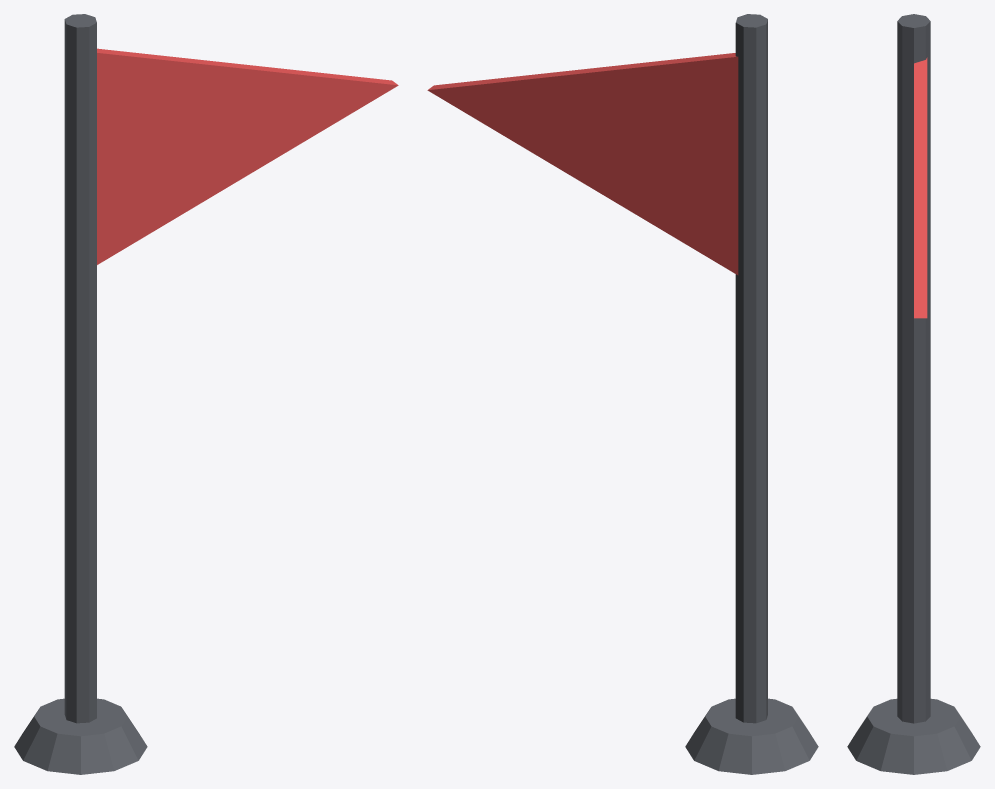
The model's file is FaultFlag.fbx.
3 renders of one model, left to right at view 1: azimuth 30°, elevation 25°; view 2: azimuth 150°, elevation 25°; view 3: azimuth 270°, elevation 25°, orthographic.
Parts seen in each view (by area): view 1: FaultFlag_Flag, FaultFlag_Pole, FaultFlag_Base; view 2: FaultFlag_Flag, FaultFlag_Pole, FaultFlag_Base; view 3: FaultFlag_Pole, FaultFlag_Base, FaultFlag_Flag.
Part boxes in pixels (<box>): FaultFlag_Flag: <box>97,48,398,264</box>; FaultFlag_Pole: <box>64,14,96,723</box>; FaultFlag_Base: <box>14,698,147,774</box>; FaultFlag_Flag: <box>427,53,738,275</box>; FaultFlag_Pole: <box>735,14,767,723</box>; FaultFlag_Base: <box>685,698,818,774</box>; FaultFlag_Pole: <box>897,14,930,723</box>; FaultFlag_Base: <box>847,698,980,774</box>; FaultFlag_Flag: <box>914,57,927,318</box>.
Size of the model in its own units: 65 by 120 by 20.
